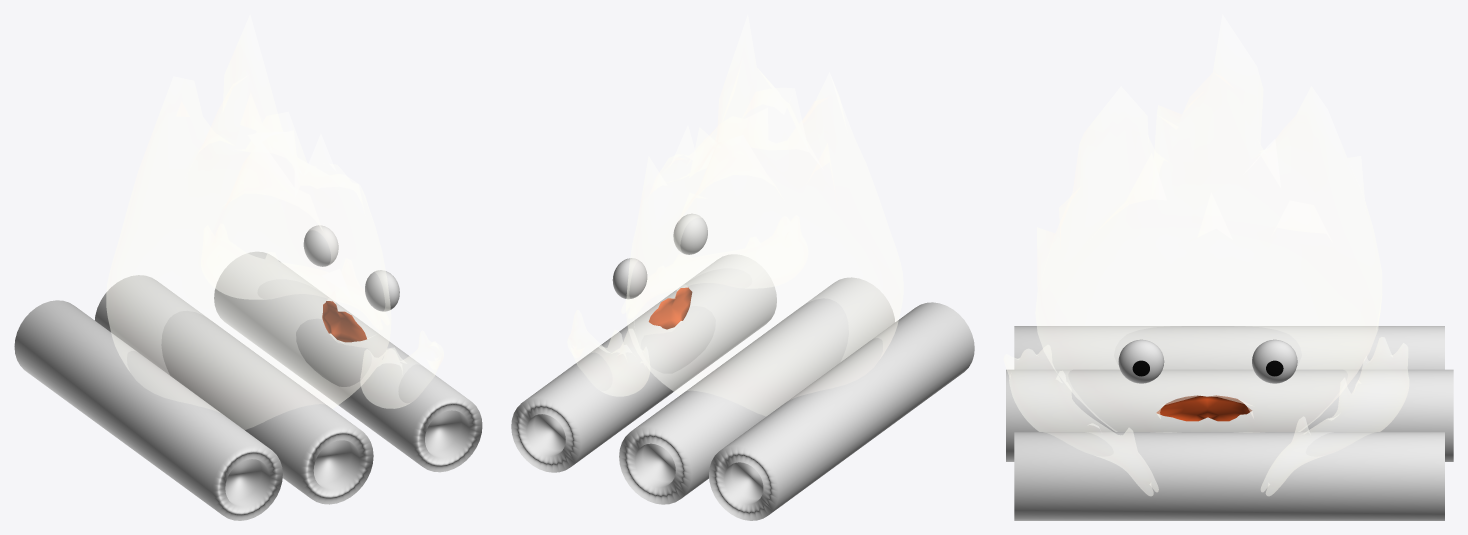
File: cecxli .glb
3 views of the same model, side by side, from view 1: azimuth 30°, elevation 25°; view 2: azimuth 150°, elevation 25°; view 3: azimuth 270°, elevation 25° (orthographic). The views are drawn at different scales.
Parts seen in each view (by area): view 1: Icosphere, Cylinder.189, Cylinder.188, Cylinder.190, Cube.039, Cube.038, Sphere.003, Sphere.004; view 2: Icosphere, Cylinder.189, Cylinder.188, Cylinder.190, Cube.038, Cube.039, Sphere.003, Sphere.004; view 3: Icosphere, Cylinder.188, Cylinder.190, Cylinder.189, Cube.039, Cube.038, Sphere.004, Sphere.003.
Boxes of the visible parts, left/top/right/bottom form: Icosphere: left=106, top=15, right=391, bottom=429; Cylinder.189: left=14, top=300, right=282, bottom=520; Cylinder.188: left=214, top=251, right=482, bottom=472; Cylinder.190: left=95, top=275, right=373, bottom=504; Cube.039: left=201, top=224, right=389, bottom=329; Cube.038: left=360, top=330, right=443, bottom=408; Sphere.003: left=303, top=225, right=338, bottom=266; Sphere.004: left=365, top=270, right=399, bottom=311; Icosphere: left=626, top=15, right=903, bottom=415; Cylinder.189: left=709, top=302, right=974, bottom=520; Cylinder.188: left=511, top=254, right=776, bottom=472; Cylinder.190: left=619, top=277, right=894, bottom=504; Cube.038: left=621, top=215, right=807, bottom=318; Cube.039: left=567, top=310, right=649, bottom=396; Sphere.003: left=612, top=258, right=647, bottom=299; Sphere.004: left=673, top=213, right=707, bottom=254; Icosphere: left=1035, top=14, right=1382, bottom=432; Cylinder.188: left=1014, top=432, right=1444, bottom=520; Cylinder.190: left=1006, top=369, right=1453, bottom=461; Cylinder.189: left=1014, top=326, right=1444, bottom=369; Cube.039: left=1261, top=337, right=1408, bottom=495; Cube.038: left=1003, top=345, right=1158, bottom=495; Sphere.004: left=1118, top=339, right=1164, bottom=383; Sphere.003: left=1252, top=339, right=1297, bottom=383.
Size of the model in its own units: 1.75 by 2.37 by 2.15.
